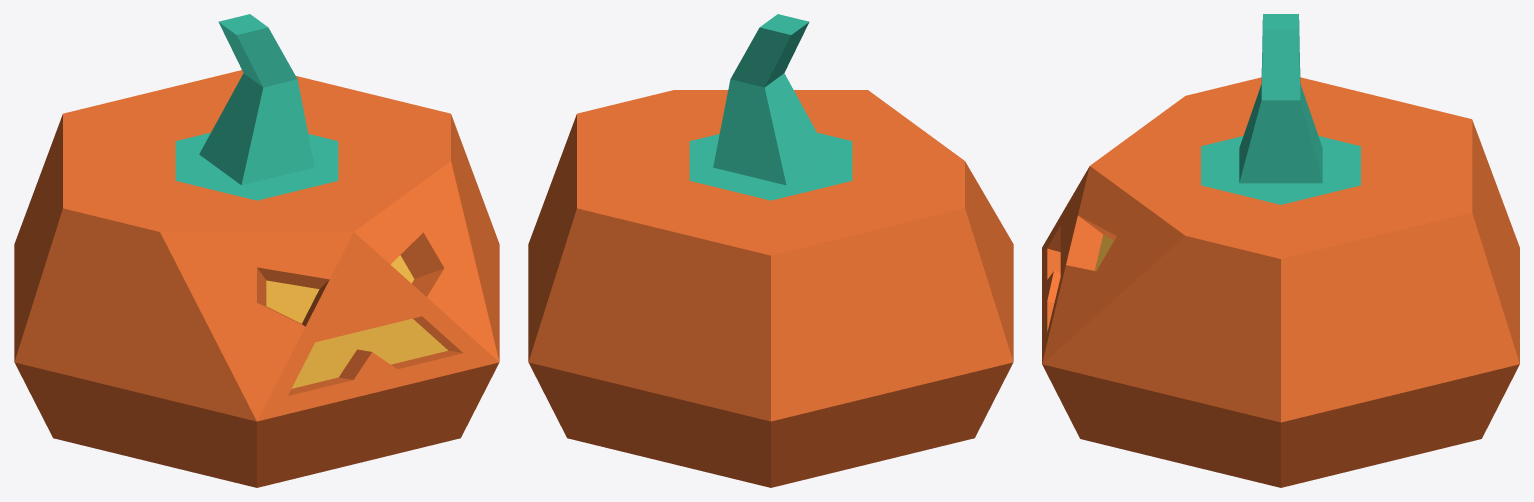
Rendered from pumpkinCarved.fbx.
3 views of the same model, side by side, from view 1: azimuth 30°, elevation 25°; view 2: azimuth 150°, elevation 25°; view 3: azimuth 270°, elevation 25° (orthographic).
Parts seen in each view (by area): view 1: pumpkinCarved; view 2: pumpkinCarved; view 3: pumpkinCarved.
Boxes of the visible parts, x1,y1,x2,y2 form: pumpkinCarved: (14, 14, 499, 487); pumpkinCarved: (528, 14, 1013, 487); pumpkinCarved: (1042, 14, 1519, 487).
Size of the model in its own units: 3.57 by 2.58 by 3.09.
